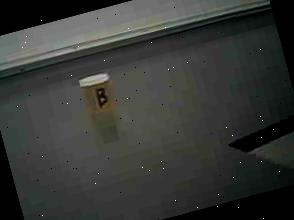Bottle B: (71, 64, 132, 132)
